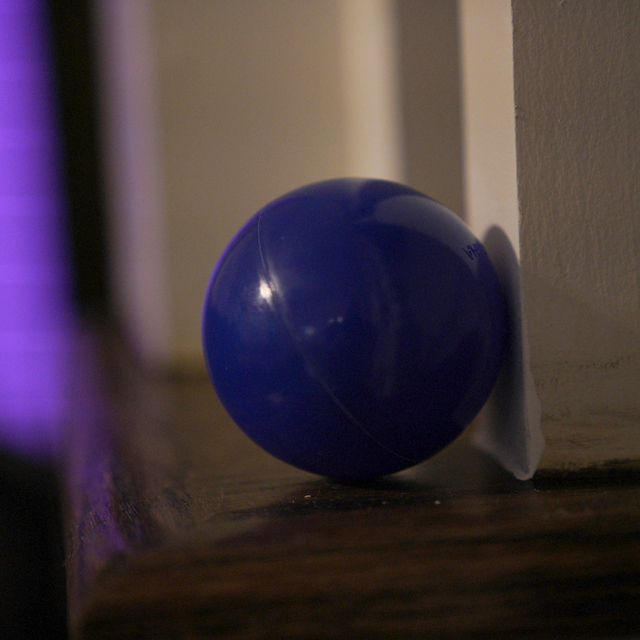Ball: (198, 177, 513, 478)
